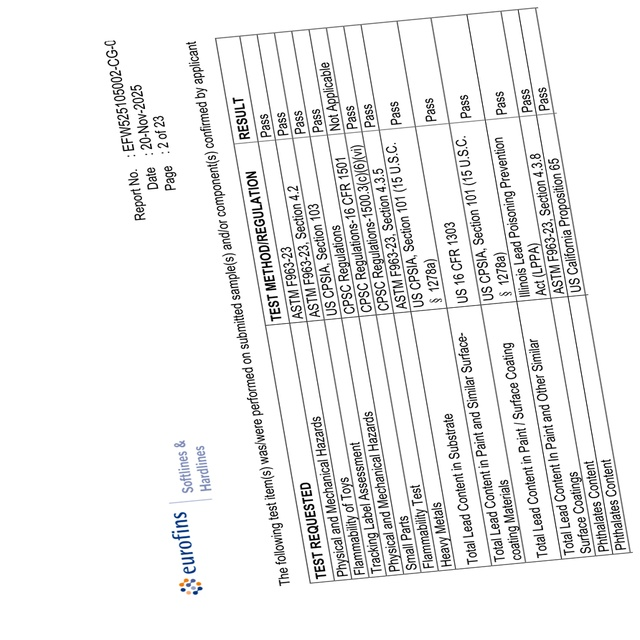eurofins: (166, 507, 206, 601)
